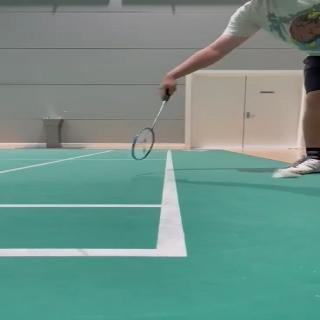Shuttle: (272, 168, 302, 178)
